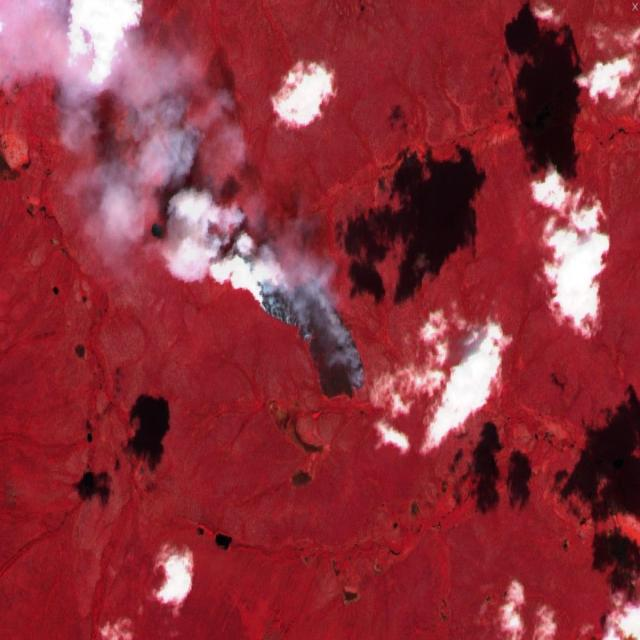fire: (245, 254, 367, 400)
